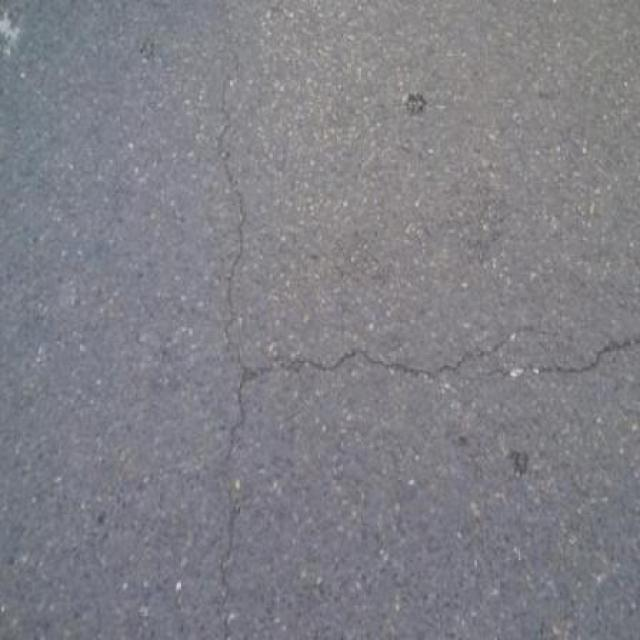Crack: (219, 45, 569, 638), (481, 343, 640, 378)
